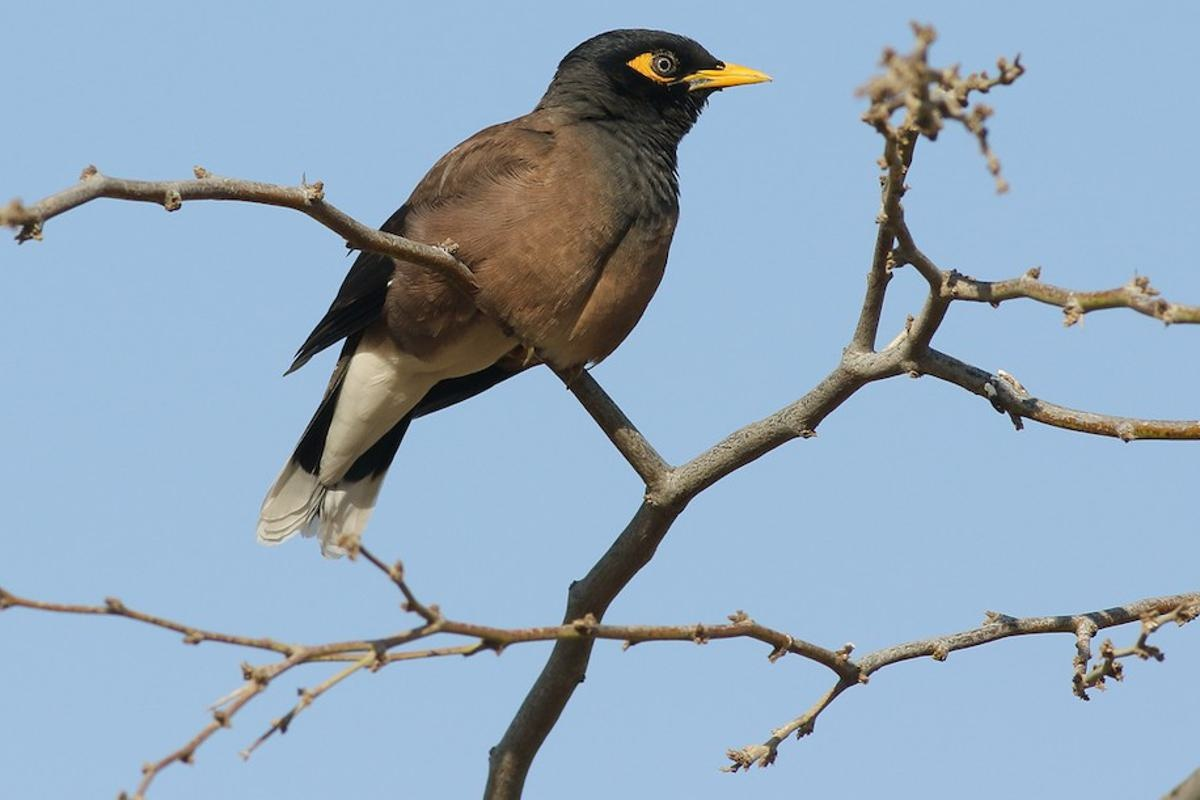myna: (241, 26, 786, 527)
